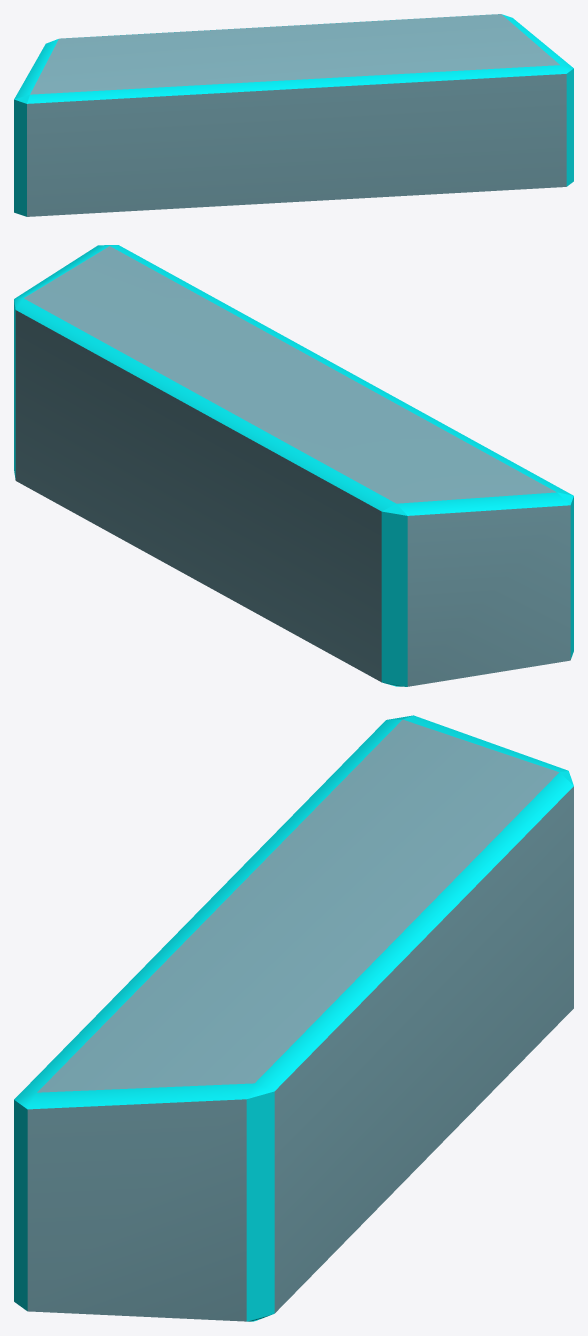
File: BlueL3.fbx
The picture shows the model from 3 angles, top to bottom: view 1: azimuth 30°, elevation 25°; view 2: azimuth 150°, elevation 25°; view 3: azimuth 270°, elevation 25°; orthographic projection. The views are drawn at different scales.
Parts seen in each view (by area): view 1: polySurface73; view 2: polySurface73; view 3: polySurface73.
Part boxes in pixels (left/top/right/bottom): polySurface73: left=14, top=14, right=573, bottom=216; polySurface73: left=14, top=245, right=573, bottom=686; polySurface73: left=14, top=715, right=573, bottom=1321.
Bounding box in the file's own units: 2.56 × 0.7213 × 1.54.
